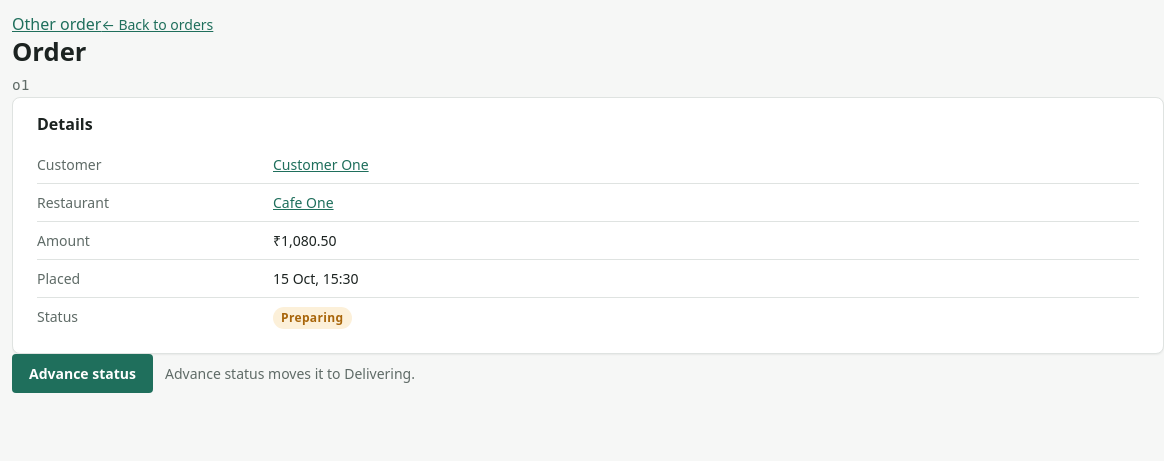
Test: Order detail › preserves the API conflict message and refreshes a stale order
Click the button "Advance status".
click(82, 373)  # box [12,354,153,393]
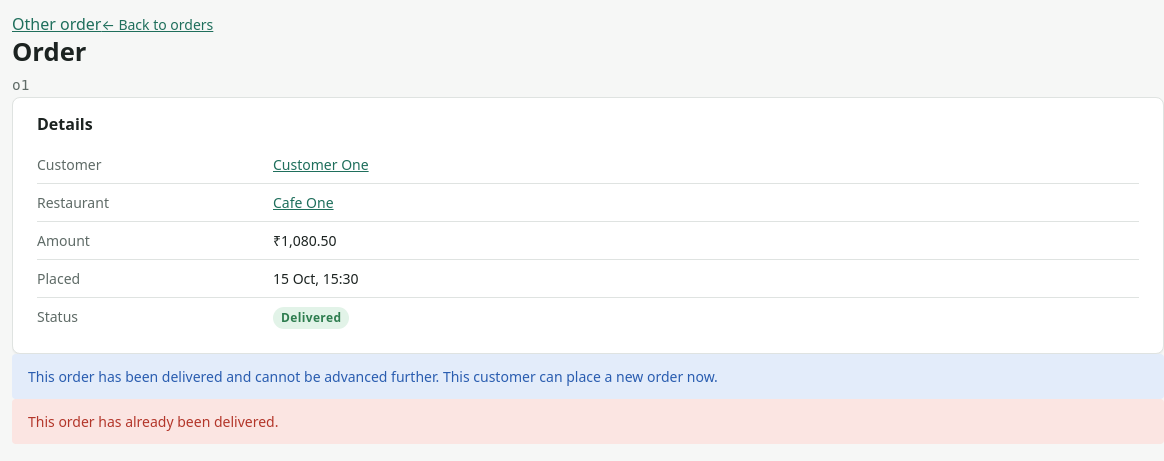
Now the message reads "This order has already been delivered.", box [28,412,278,431]
Now the text "Delivered" is shown, box [273,307,349,329]
Now the button "Advance status" is gone
